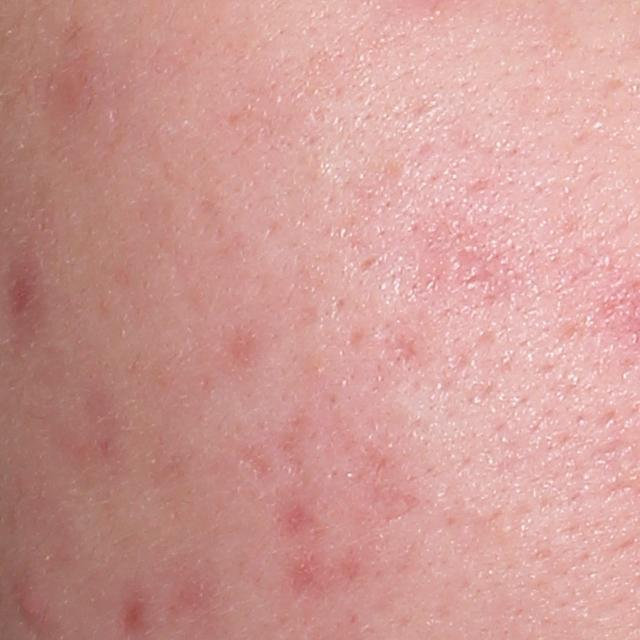atrophic_scar: (238, 445, 273, 486)
papule: (11, 583, 45, 620)
